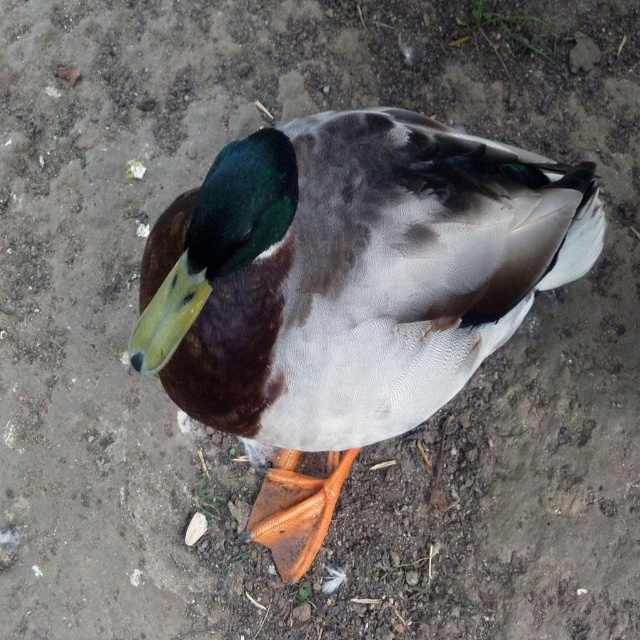Duck: (109, 72, 619, 561)
